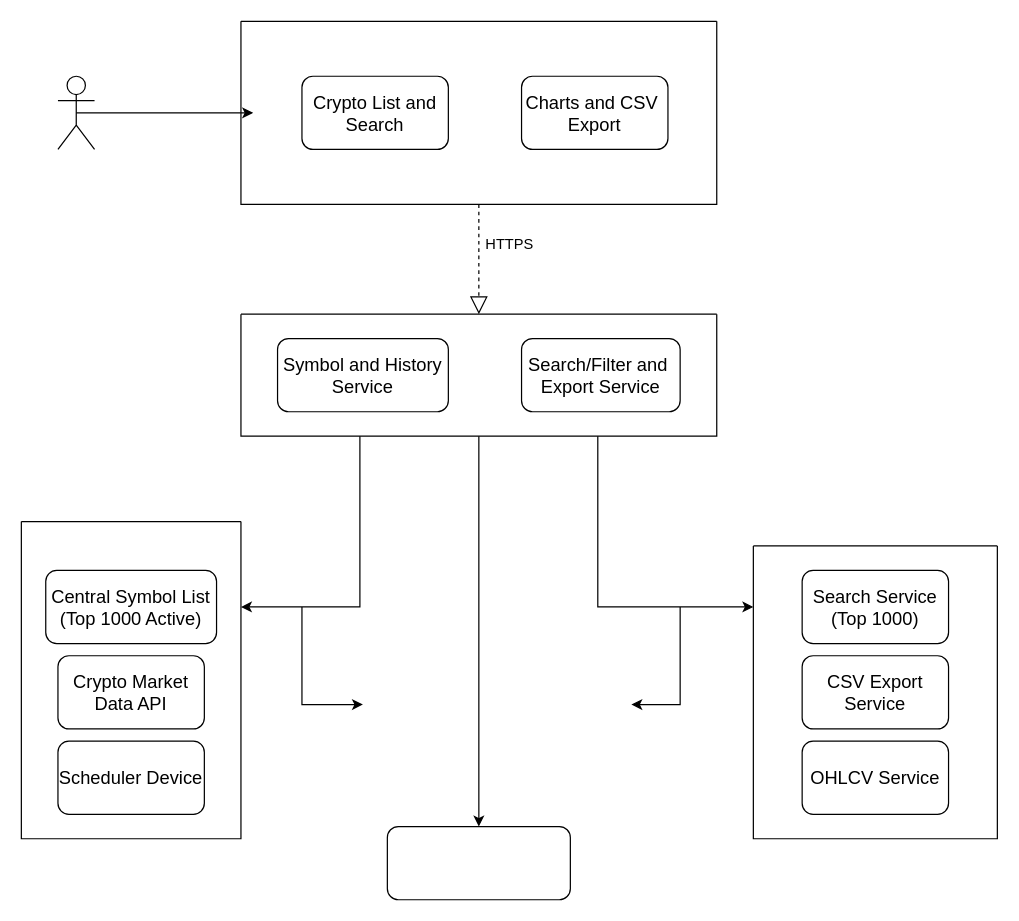
The diagram is 1019 pixels wide and 921 high, and some of its shapes have lost their labels. Each missing label, with the box of its shape:
DATABASE(file csv): (386, 825, 570, 900)
User: (57, 75, 95, 149)
